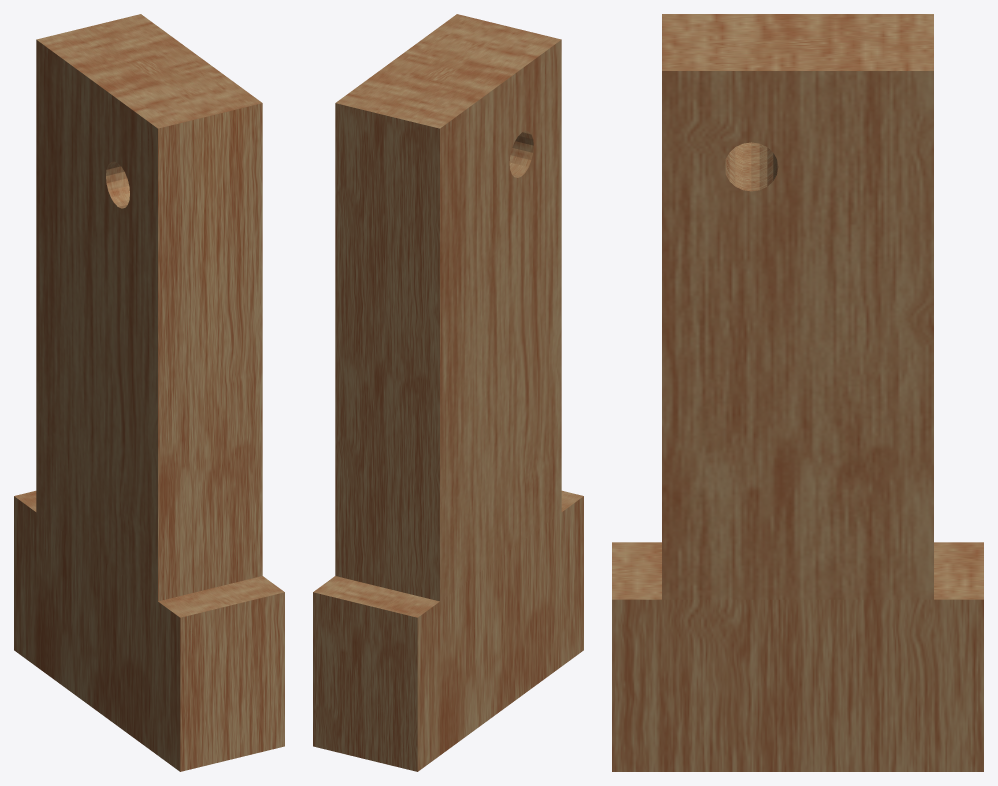
Rendered from Crank.Support.2.fbx.
The picture shows the model from 3 angles, left to right: view 1: azimuth 30°, elevation 25°; view 2: azimuth 150°, elevation 25°; view 3: azimuth 270°, elevation 25°; orthographic projection. The views are drawn at different scales.
Visible parts, largest first — view 1: Crank.Support.2; view 2: Crank.Support.2; view 3: Crank.Support.2.
Part boxes in pixels (x1,y1,x2,y2): Crank.Support.2: [14, 14, 284, 771]; Crank.Support.2: [313, 14, 583, 771]; Crank.Support.2: [612, 14, 983, 771].
Size of the model in its own units: 2 by 11.44 by 5.5.
